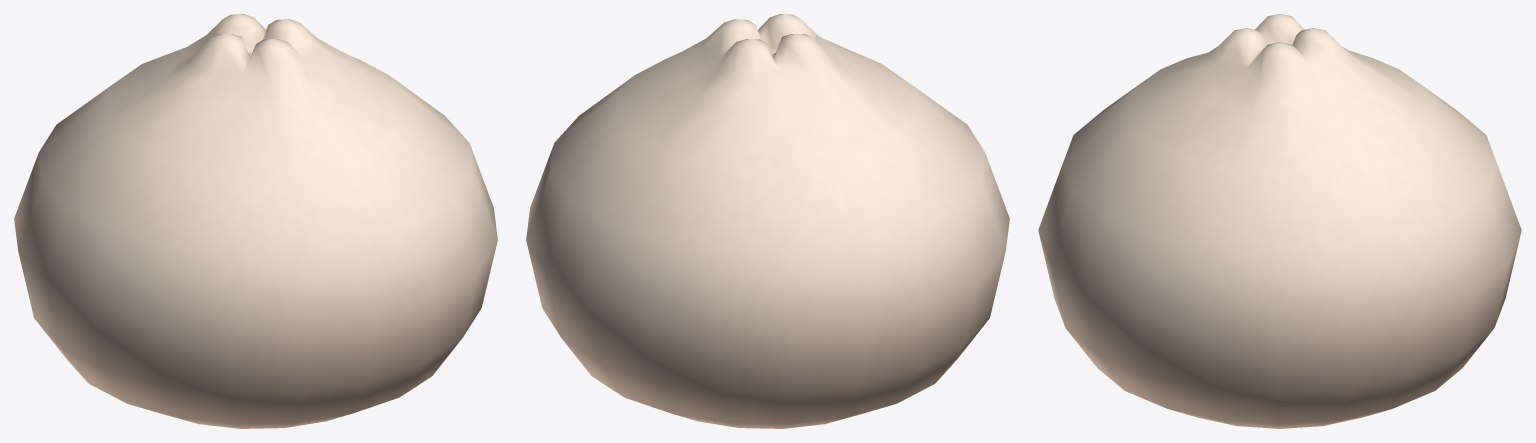
Rendered from SteamedBuns.fbx.
The picture shows the model from 3 angles, left to right: view 1: azimuth 30°, elevation 25°; view 2: azimuth 150°, elevation 25°; view 3: azimuth 270°, elevation 25°; orthographic projection.
Parts seen in each view (by area): view 1: SteamedBuns; view 2: SteamedBuns; view 3: SteamedBuns.
Boxes of the visible parts, x1=… form: SteamedBuns: x1=14, y1=14, x2=497, y2=428; SteamedBuns: x1=526, y1=14, x2=1009, y2=428; SteamedBuns: x1=1038, y1=14, x2=1521, y2=428.
Bounding box in the file's own units: 104 × 83.83 × 104.
